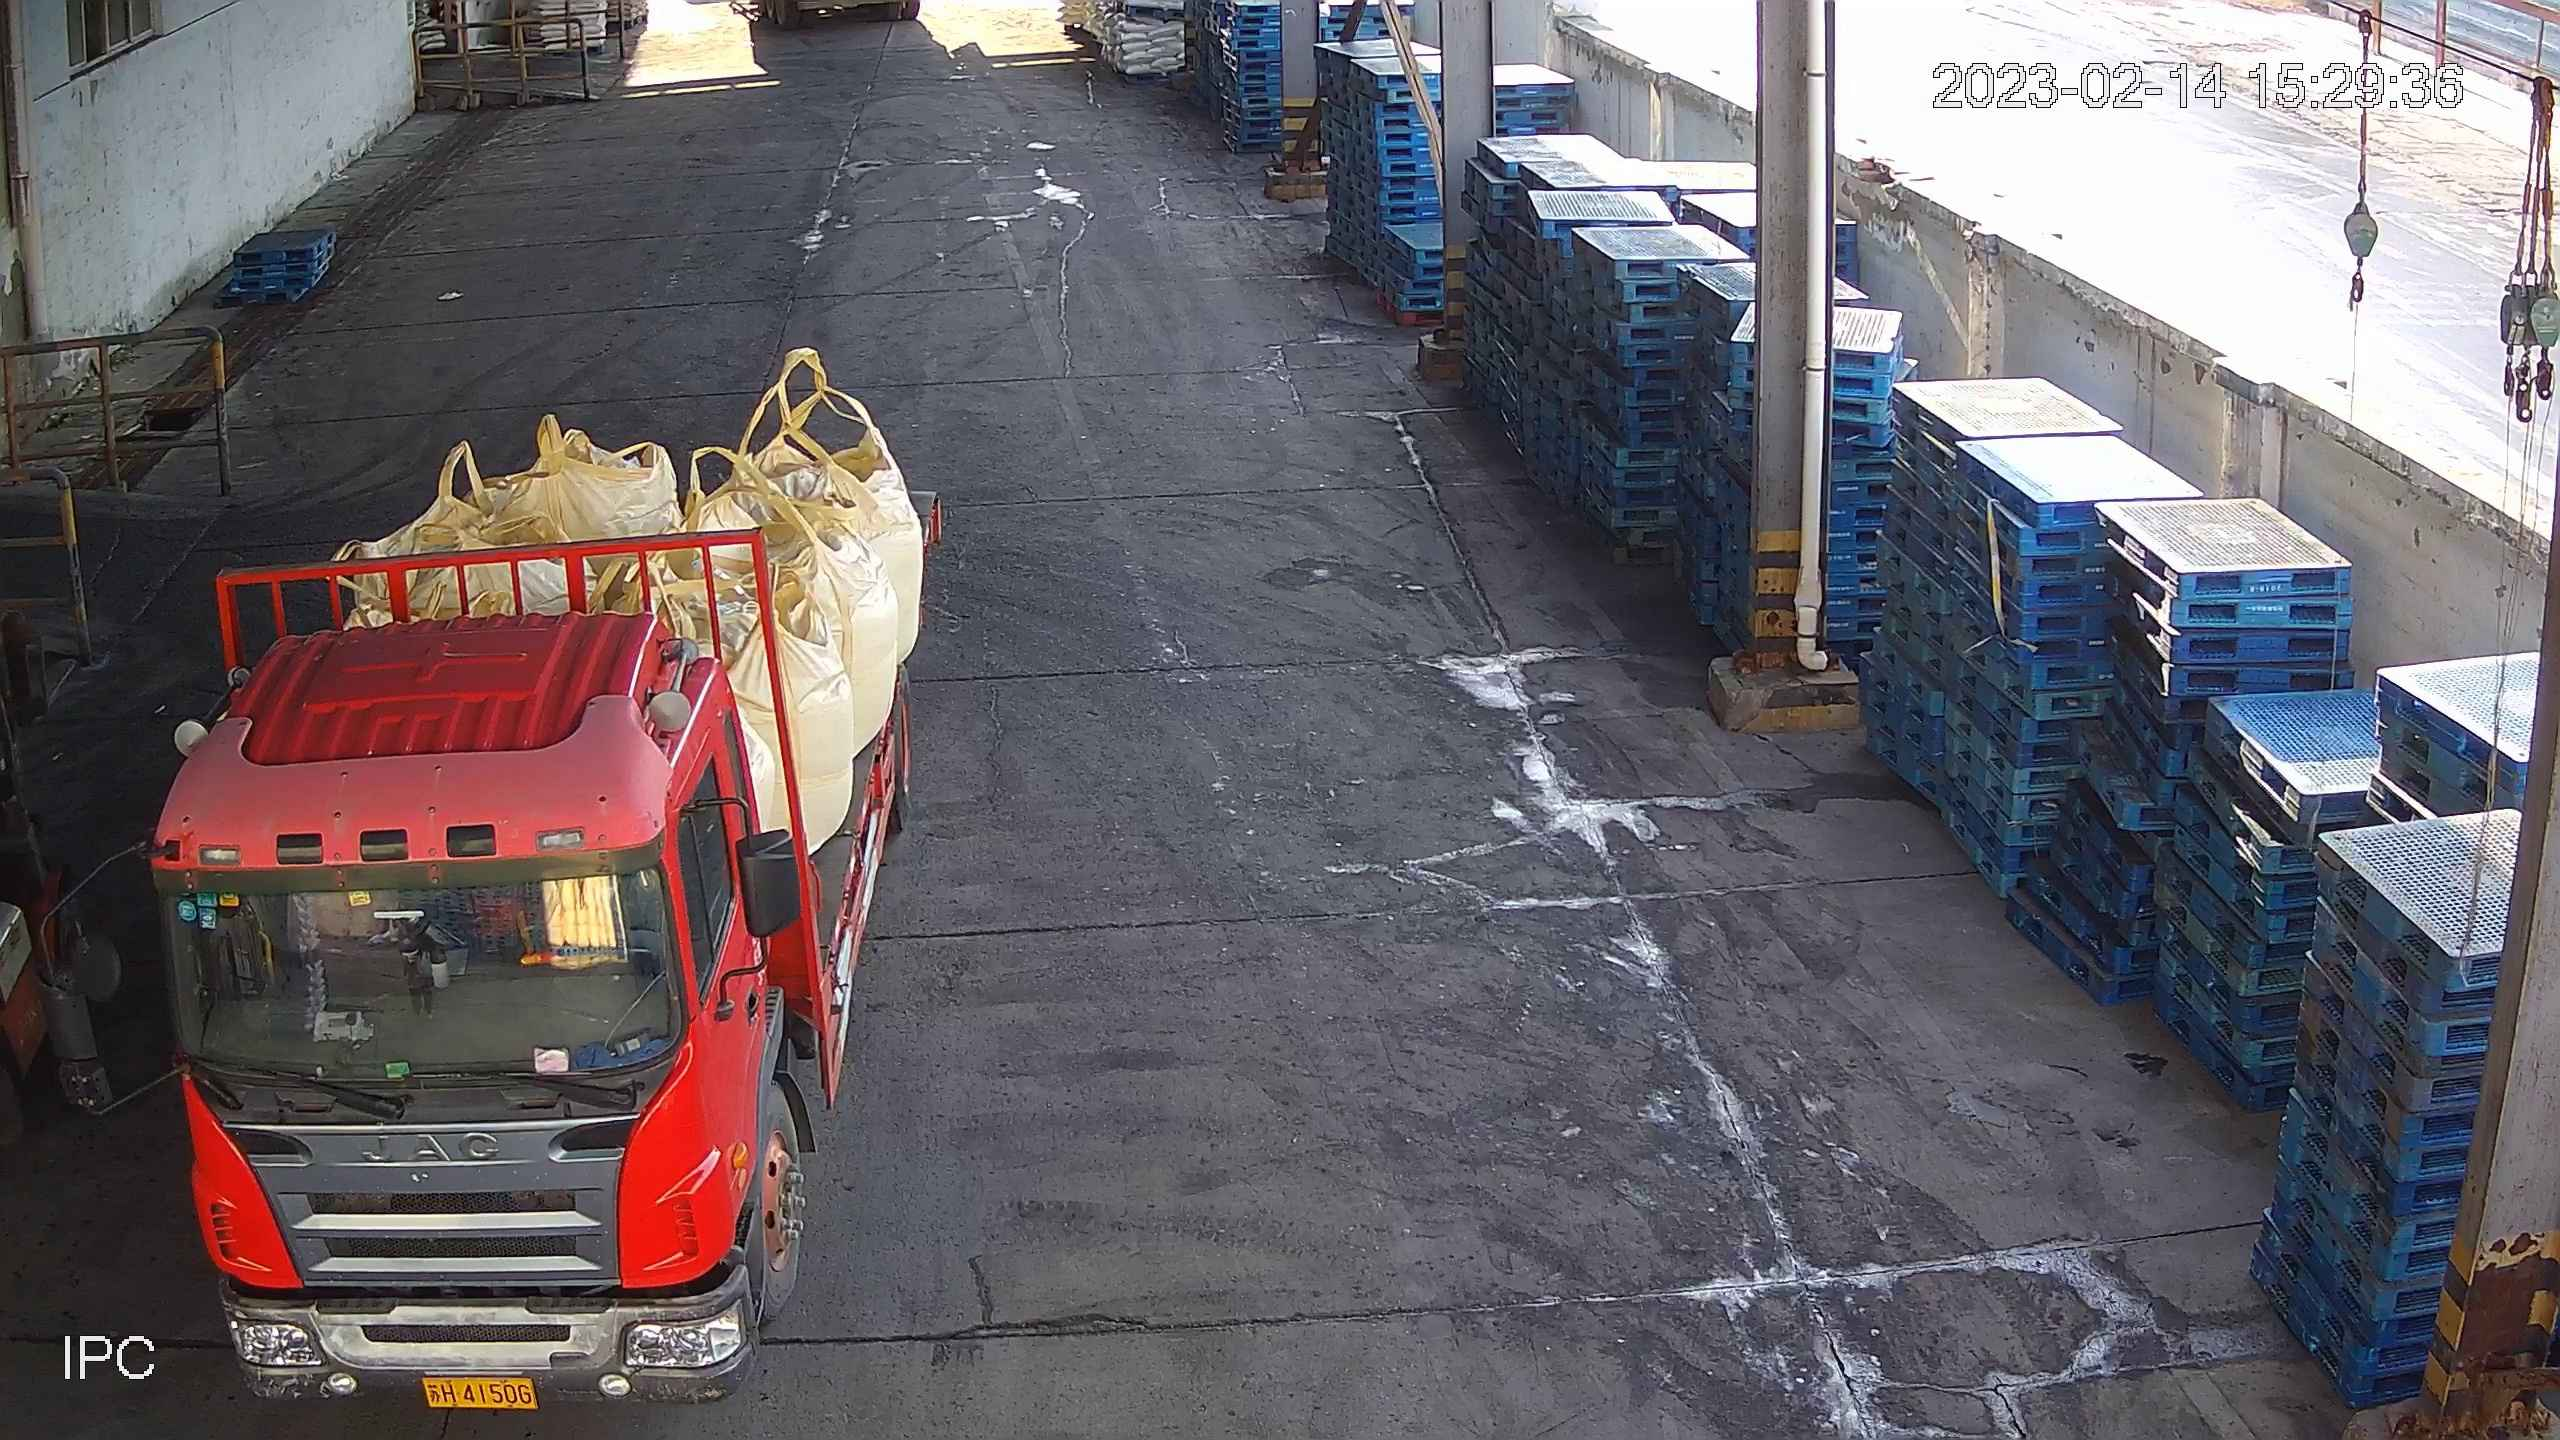truck: (28, 489, 942, 1410)
